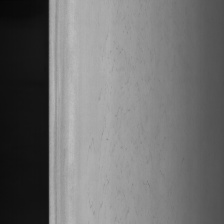silk_spot: (94, 11, 163, 210)
